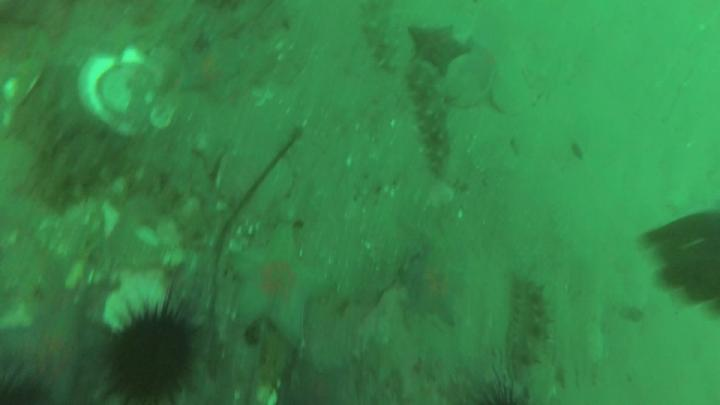echinus: (110, 315, 194, 405)
holothurian: (409, 60, 456, 177), (506, 272, 553, 384), (360, 1, 405, 74)
scallop: (217, 150, 293, 220), (255, 381, 279, 405)
starfish: (232, 221, 327, 350), (5, 297, 106, 404), (399, 244, 468, 327), (181, 46, 239, 102), (408, 26, 470, 71)
